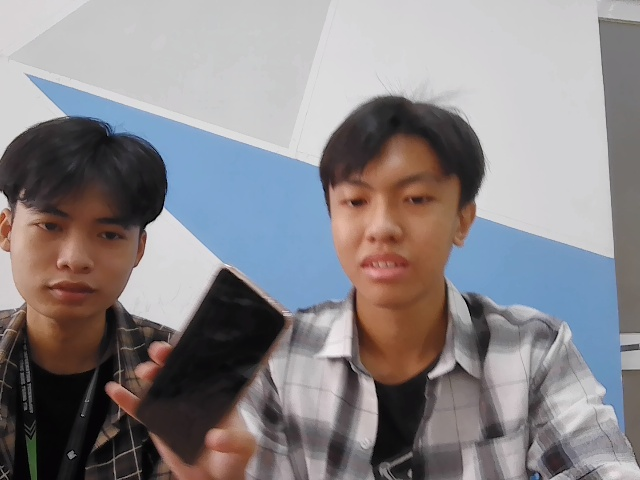human: (315, 104, 487, 298), (2, 118, 161, 317)
phone: (134, 260, 289, 480)
